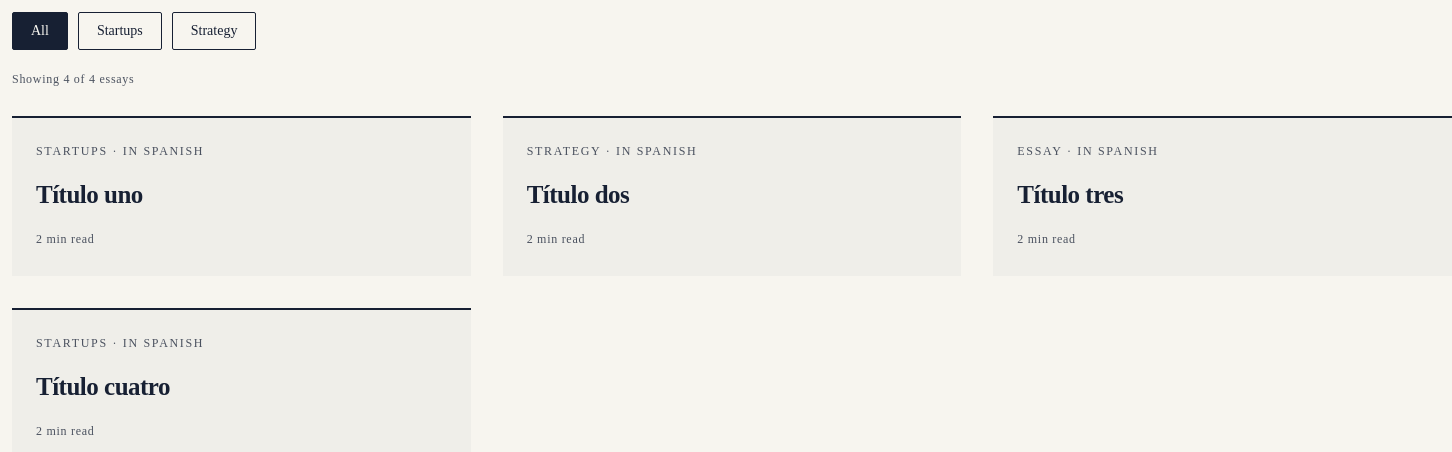
Scenario: EssayBrowser › uses the singular for a single essay
The width and height of the screenshot is (1452, 452).
Click the button "Strategy".
click(214, 31)  # box left=172, top=12, right=256, bottom=50
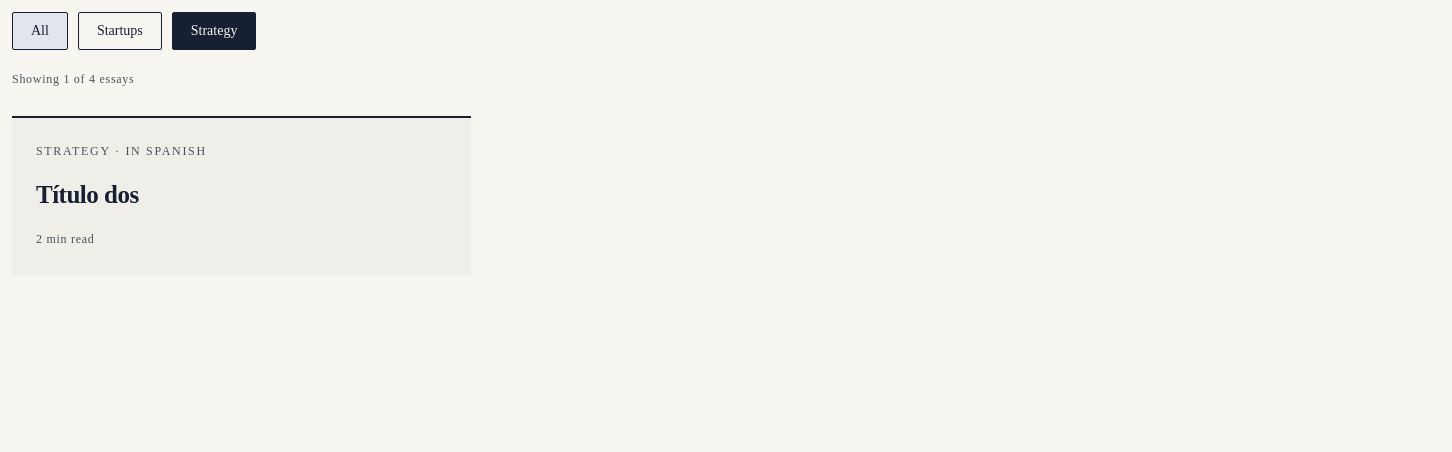
Expected: the message reads "Showing 1 of 4 essays", left=12, top=72, right=134, bottom=86
